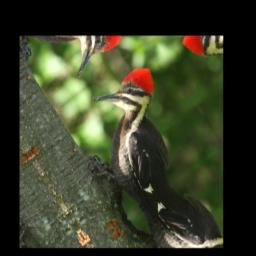Woodpecker: (60, 59, 206, 221)
